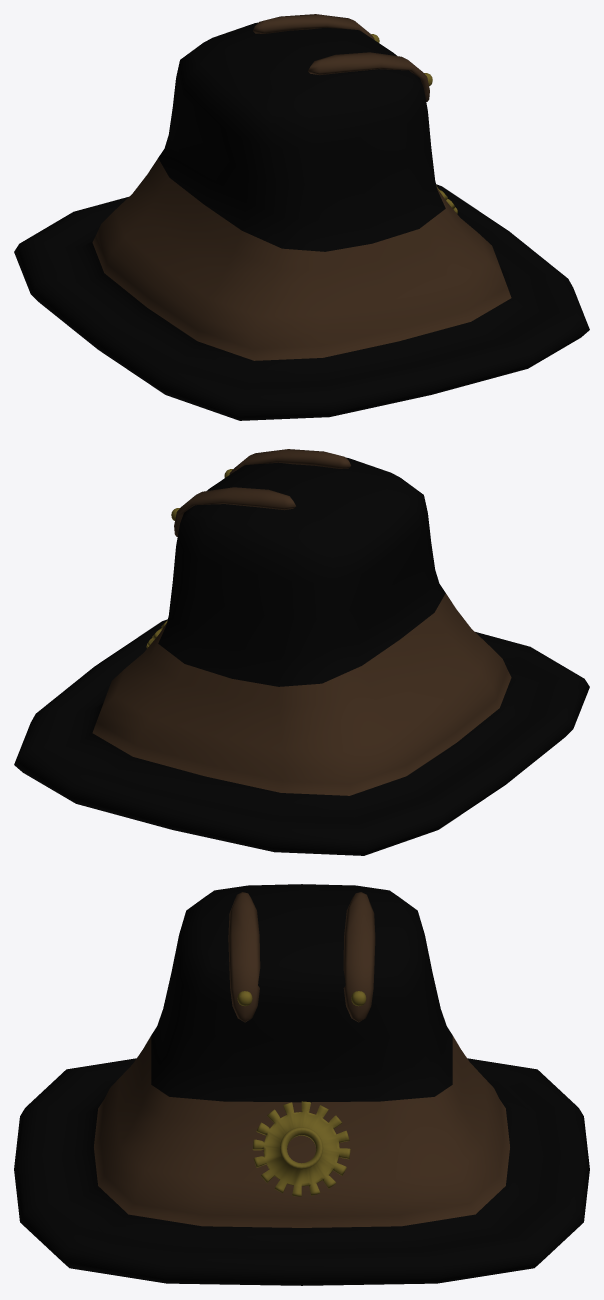
The model's file is Hat.fbx.
3 renders of one model, top to bottom at view 1: azimuth 30°, elevation 25°; view 2: azimuth 150°, elevation 25°; view 3: azimuth 270°, elevation 25°, orthographic. The views are drawn at different scales.
Visible parts, largest first — view 1: Hat, Hat.001, Hat.002; view 2: Hat, Hat.002, Hat.001; view 3: Hat, Circle, Hat.002, Hat.001.
Boxes of the visible parts, bbox=[...] form: Hat: bbox=[14, 22, 589, 420]; Hat.001: bbox=[308, 52, 432, 101]; Hat.002: bbox=[253, 14, 379, 42]; Hat: bbox=[14, 457, 589, 855]; Hat.002: bbox=[171, 487, 295, 536]; Hat.001: bbox=[224, 449, 350, 477]; Hat: bbox=[14, 884, 589, 1285]; Circle: bbox=[252, 1101, 350, 1196]; Hat.002: bbox=[343, 892, 375, 1022]; Hat.001: bbox=[228, 892, 260, 1022].
Bounding box in the file's own units: 120 × 73.82 × 132.
